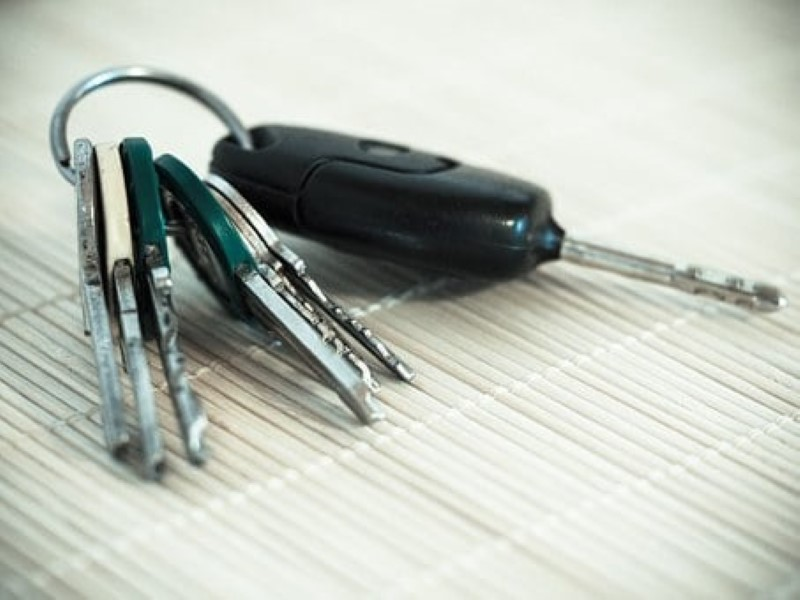carkey: (213, 109, 792, 317)
key: (160, 155, 434, 422), (70, 125, 207, 483)
